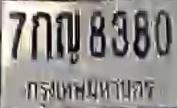0: (153, 9, 171, 55)
3: (110, 9, 128, 56)
7: (8, 10, 25, 58)
8: (132, 9, 150, 58), (89, 10, 105, 56)
A01: (30, 10, 51, 60)
A13: (55, 10, 80, 59)
BKK: (22, 73, 157, 105)
